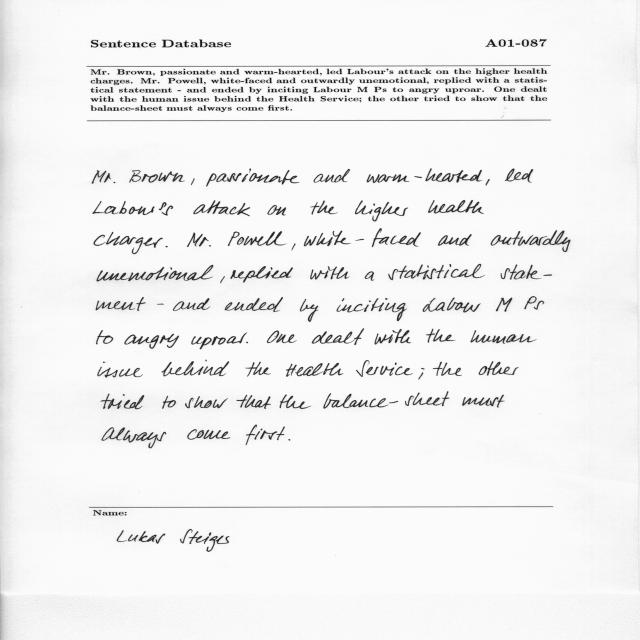word: (304, 229, 421, 248), (324, 392, 450, 409), (97, 265, 213, 282), (491, 230, 571, 252), (206, 169, 299, 187), (367, 169, 483, 183), (337, 298, 407, 321), (388, 264, 485, 280), (94, 232, 163, 254), (102, 427, 166, 448), (93, 201, 173, 215), (355, 201, 408, 222), (162, 360, 230, 376), (230, 266, 293, 283), (356, 360, 413, 377), (191, 333, 247, 350), (470, 330, 537, 344), (194, 200, 251, 216), (224, 297, 283, 312), (228, 231, 286, 246), (423, 298, 481, 313), (312, 329, 364, 345), (124, 334, 179, 349), (286, 363, 344, 377), (428, 200, 484, 214), (246, 425, 285, 445), (496, 296, 544, 312), (501, 265, 552, 280), (98, 362, 143, 378), (130, 170, 185, 183), (96, 297, 146, 311), (101, 394, 144, 409), (479, 361, 519, 376), (462, 395, 505, 408), (375, 329, 411, 344), (310, 267, 350, 280), (313, 169, 350, 183), (185, 396, 228, 408), (236, 395, 271, 409), (187, 429, 231, 440), (173, 298, 210, 311), (280, 394, 311, 409), (300, 299, 319, 322), (426, 329, 456, 343), (438, 234, 472, 246), (433, 362, 462, 376), (505, 169, 533, 183), (310, 201, 338, 215), (245, 362, 271, 377), (267, 331, 297, 343), (187, 233, 211, 247), (92, 170, 115, 184), (97, 330, 113, 345), (162, 396, 176, 409), (268, 205, 286, 215), (365, 271, 374, 281), (418, 368, 425, 380), (220, 276, 225, 283), (191, 179, 195, 186), (486, 179, 490, 186), (292, 244, 296, 251), (157, 304, 164, 305), (288, 439, 291, 441), (165, 246, 168, 247), (246, 342, 248, 343)
